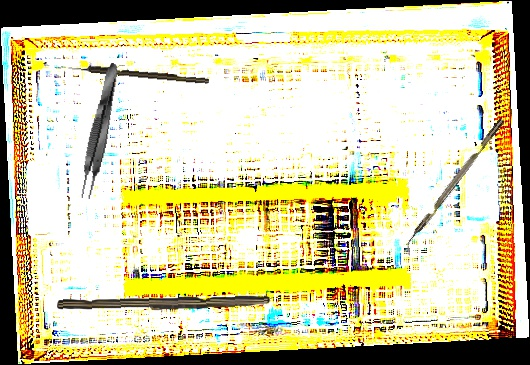Chopper: (398, 118, 512, 256)
Hook Surgical: (67, 63, 210, 85)
Scalpel Handle: (56, 292, 271, 316)
Tissue Forceps: (75, 61, 125, 201)
